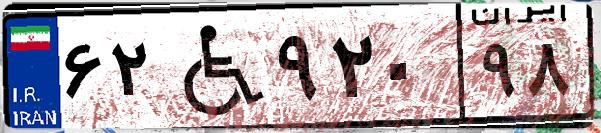0: (385, 28, 445, 110)
2: (330, 28, 385, 110), (110, 28, 158, 98)
6: (57, 26, 110, 100)
8: (525, 38, 570, 115)
9: (270, 28, 330, 110), (475, 38, 525, 113)
ژ (معلولین و جانبازان): (158, 12, 270, 120)
